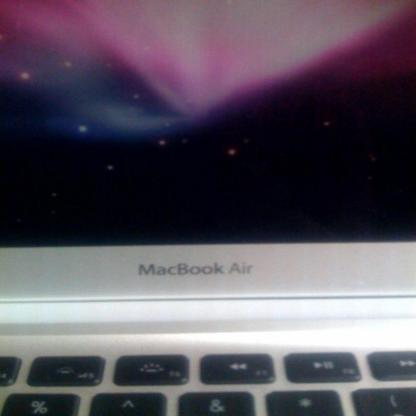board: (0, 8, 416, 416)
